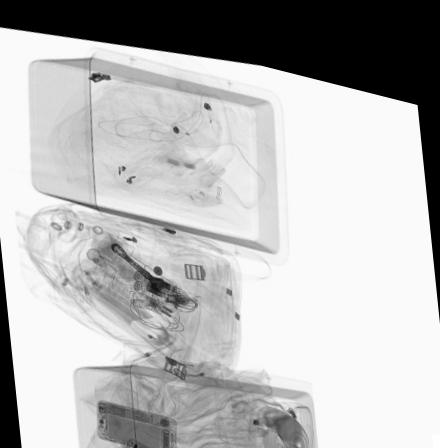Lighter: (147, 282, 184, 299)
